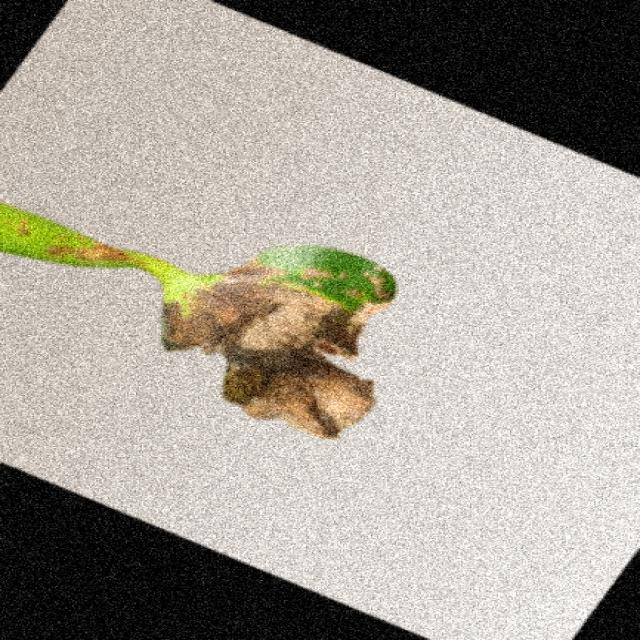daun berpenyakit bercak: (2, 204, 395, 438)
